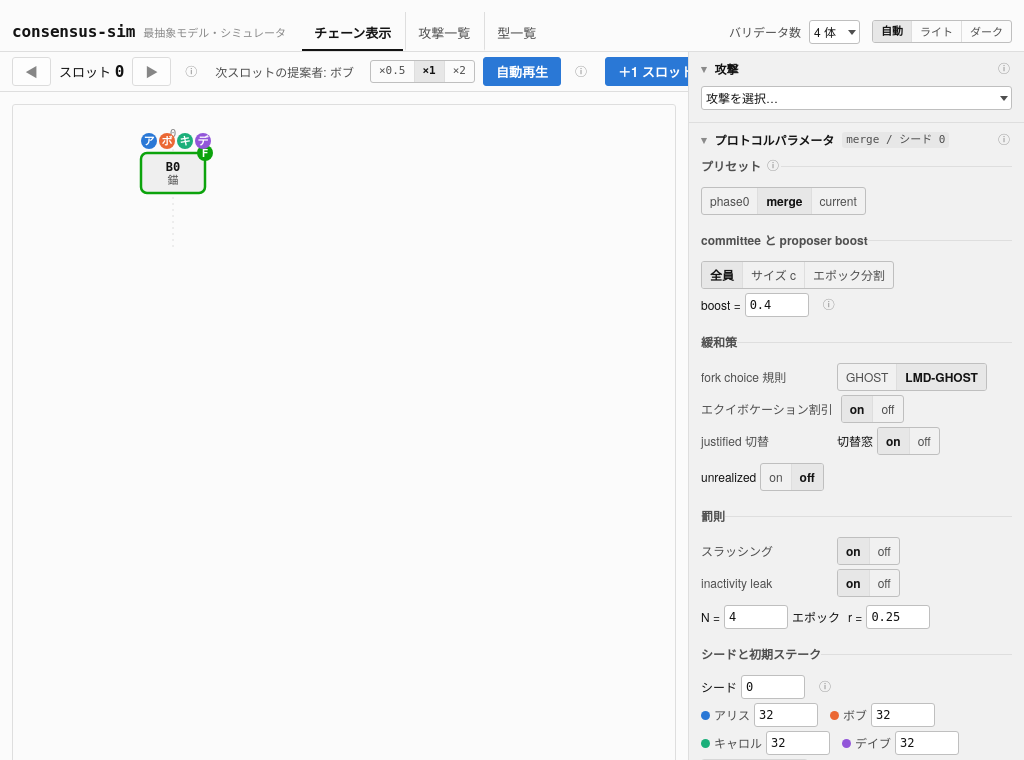
presets and individual parameters (成功条件 14) › hides the leak schedule while the leak is off and restores the default when it returns
Step 1. Click the button "off" in the row of "inactivity leak" → (884, 583), box [869, 570, 899, 596]
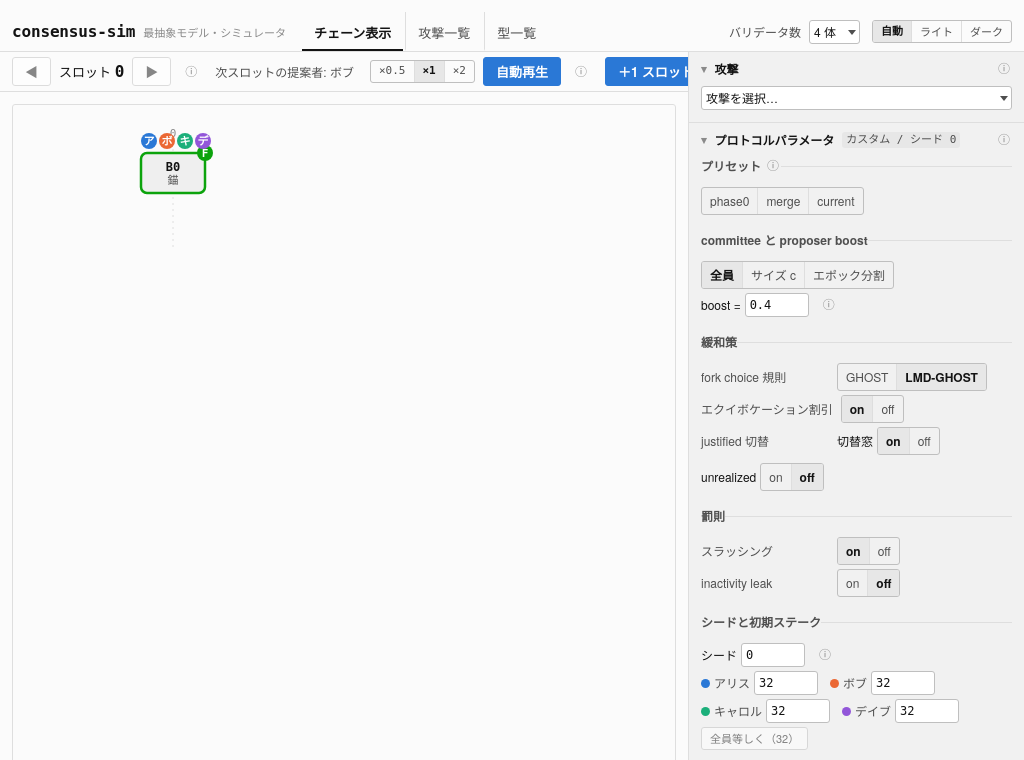
Step 2. Click the button "on" next to "inactivity leak" → (853, 583), box [838, 570, 867, 596]
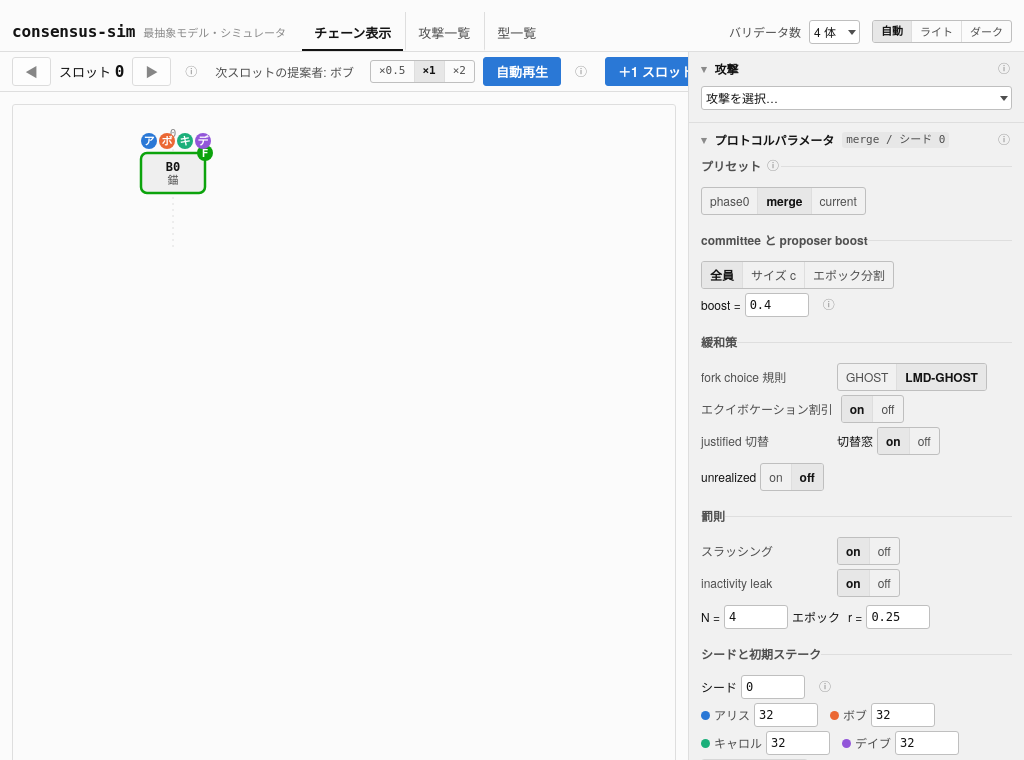
Expected: the button "merge" is shown, [757, 188, 810, 214]
Now the number field named "inactivity leak N" holds "4", box [724, 605, 788, 629]
